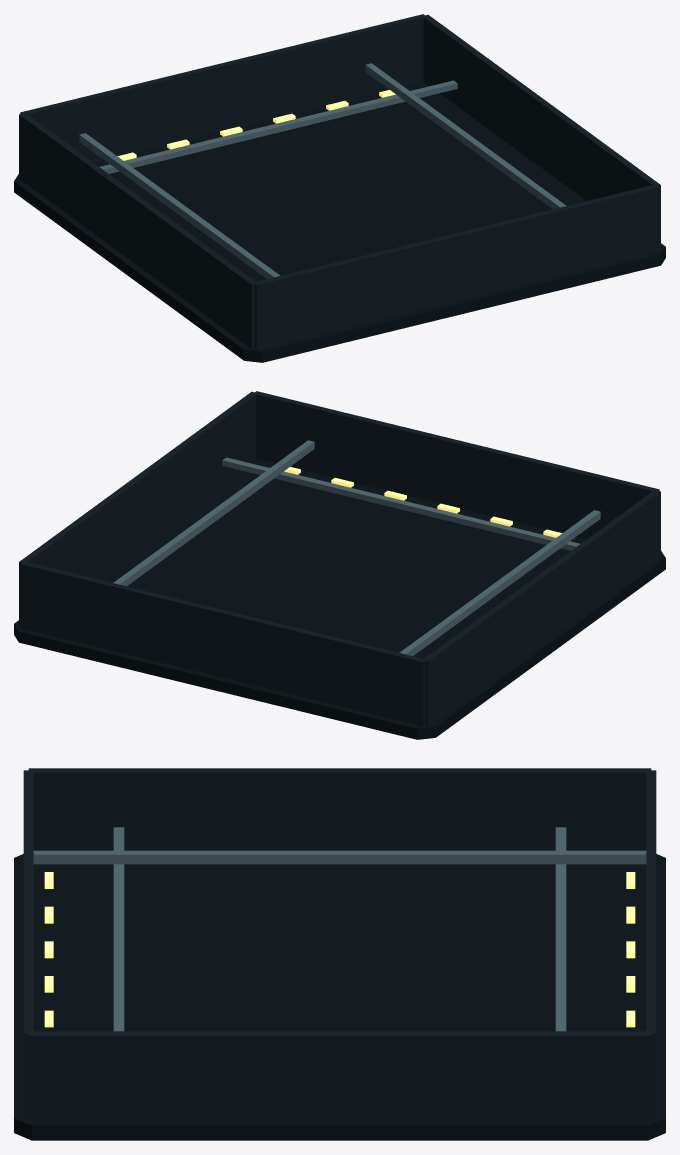
Rendered from shaft.glb.
3 renders of one model, top to bottom at view 1: azimuth 30°, elevation 25°; view 2: azimuth 150°, elevation 25°; view 3: azimuth 270°, elevation 25°, orthographic. The views are drawn at different scales.
Visible parts, largest first — view 1: shaft; view 2: shaft; view 3: shaft.
Boxes of the visible parts, x1,y1,x2,y2 form: shaft: [14, 14, 665, 362]; shaft: [14, 391, 665, 739]; shaft: [14, 768, 665, 1140].
Bounding box in the file's own units: 7.96 × 1.36 × 7.96.
